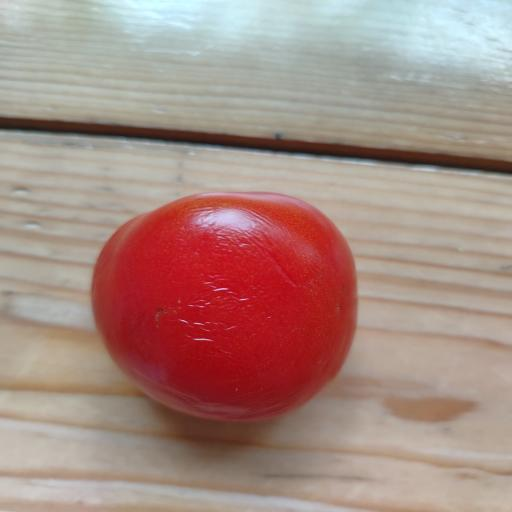spoiled: (92, 192, 357, 420)
